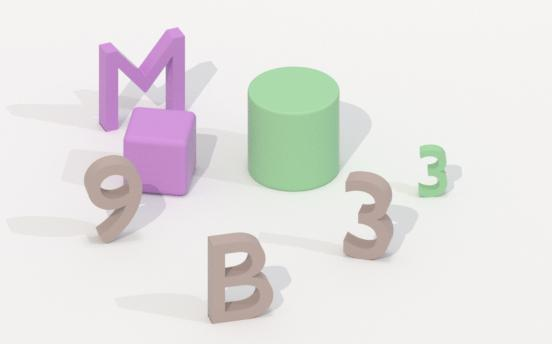3: (342, 168, 395, 261), (418, 142, 448, 200)
9: (82, 152, 146, 248)
M-hoa: (92, 27, 196, 137)
b: (201, 226, 278, 329)
hop: (119, 103, 200, 200)
tru: (245, 62, 343, 195)
